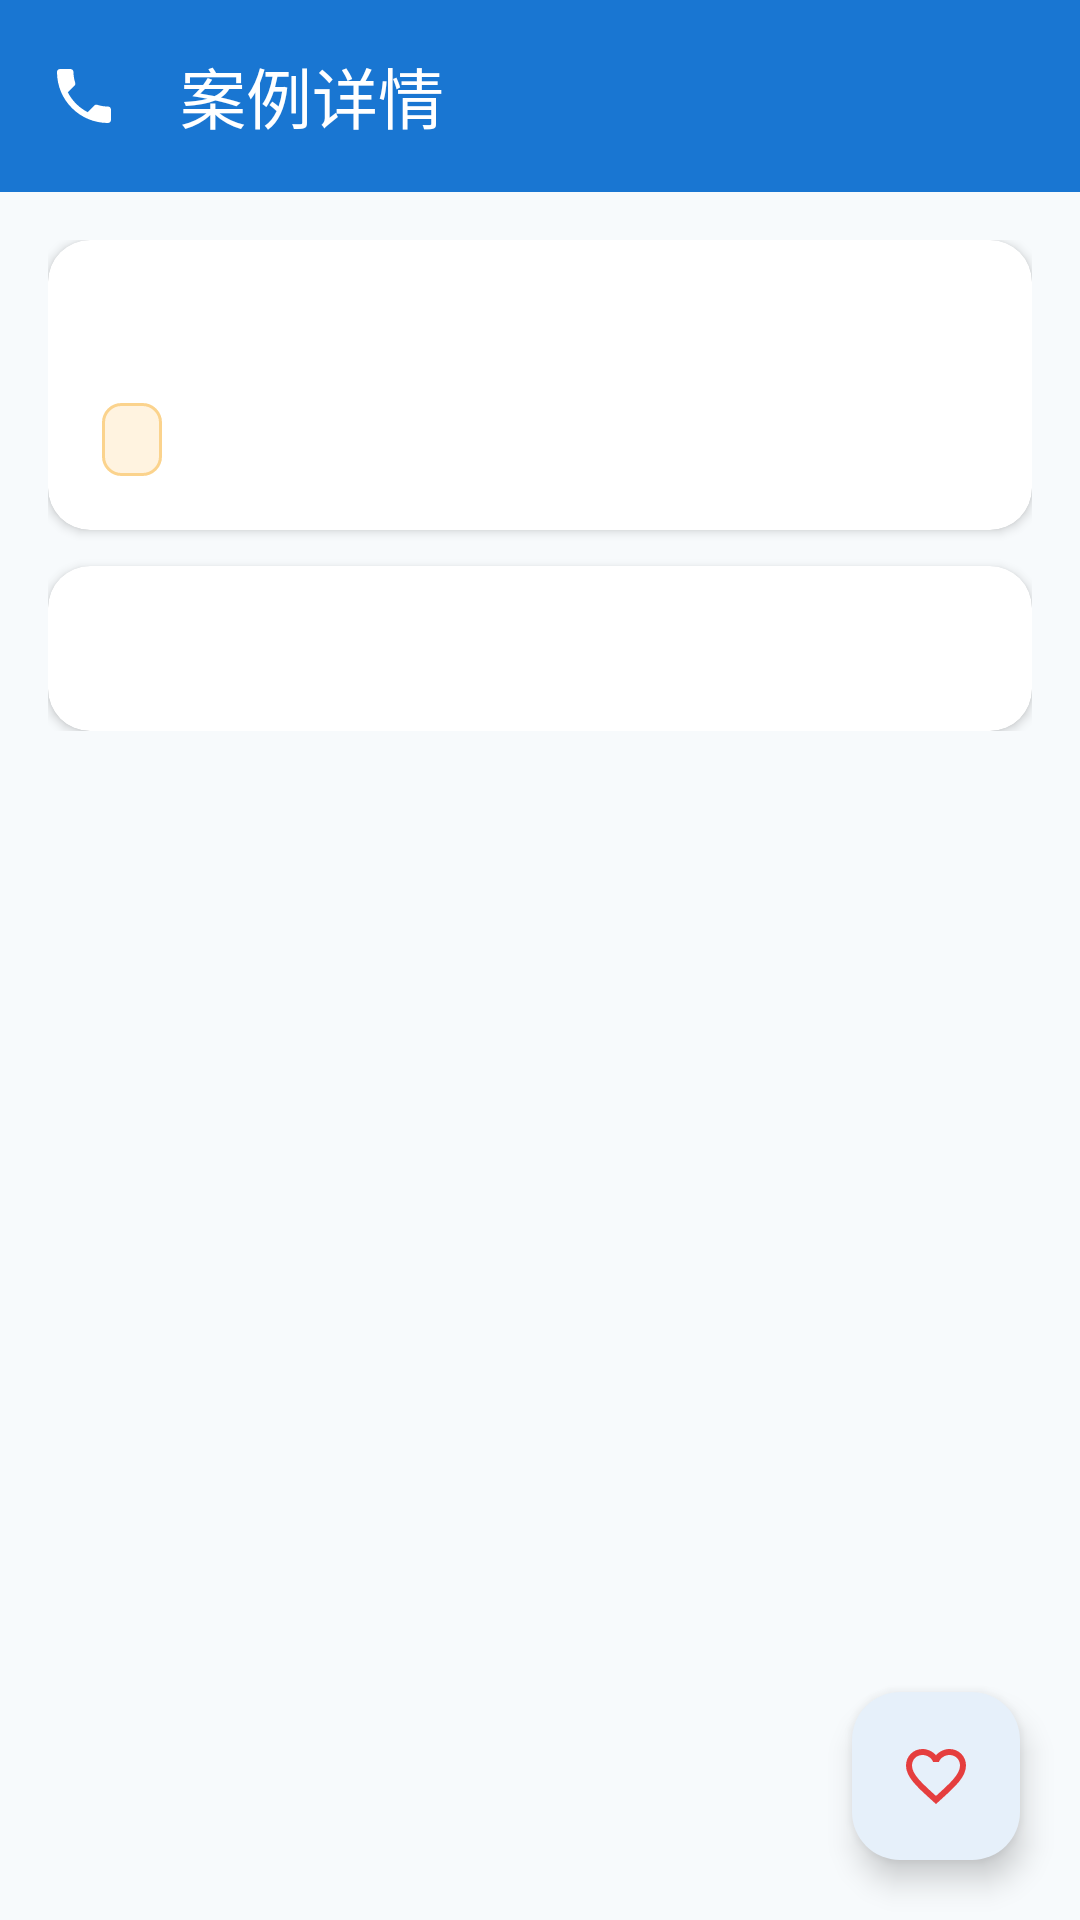

Point at icon controls on the screen. Image size 1080px x 1920px, points as point (x, y).
favorite border: point (936, 1776)
